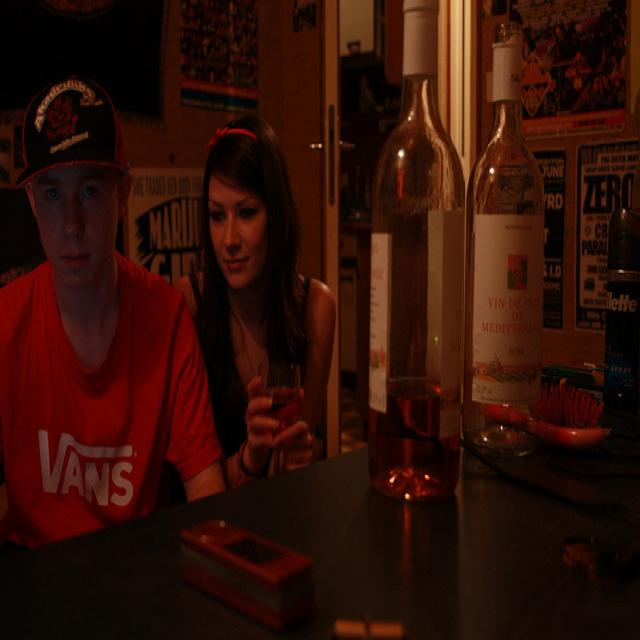Bottle: (363, 0, 467, 509), (466, 8, 547, 484)
Cup: (251, 345, 302, 463)
People: (0, 58, 216, 534), (190, 104, 333, 494)
